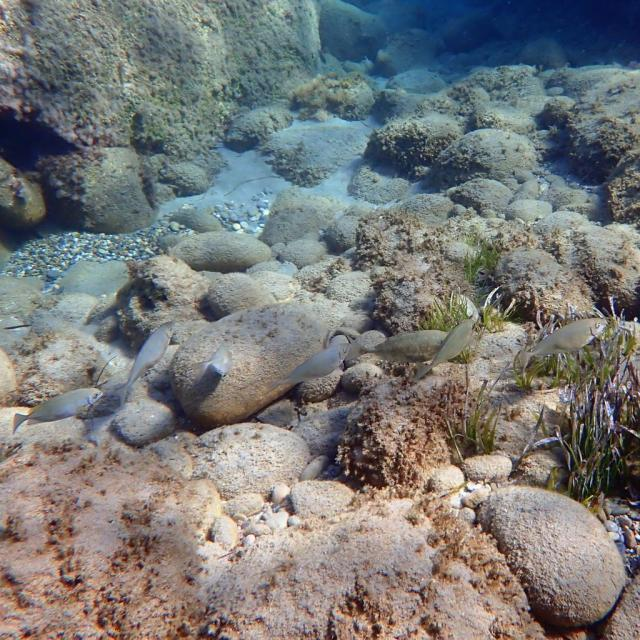Sokar Baligi: (100, 306, 194, 414), (508, 310, 620, 378)
